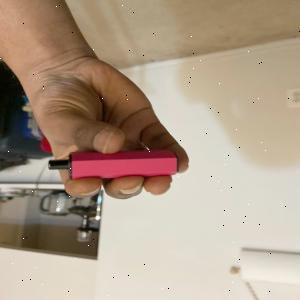Blume-E-Ciggirate: (46, 150, 184, 184)
